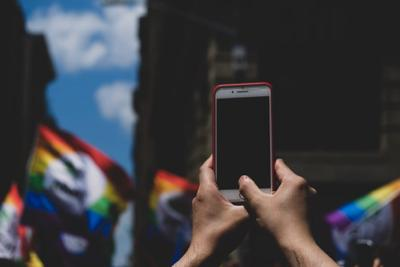Mobile Phone: (210, 81, 274, 204)
